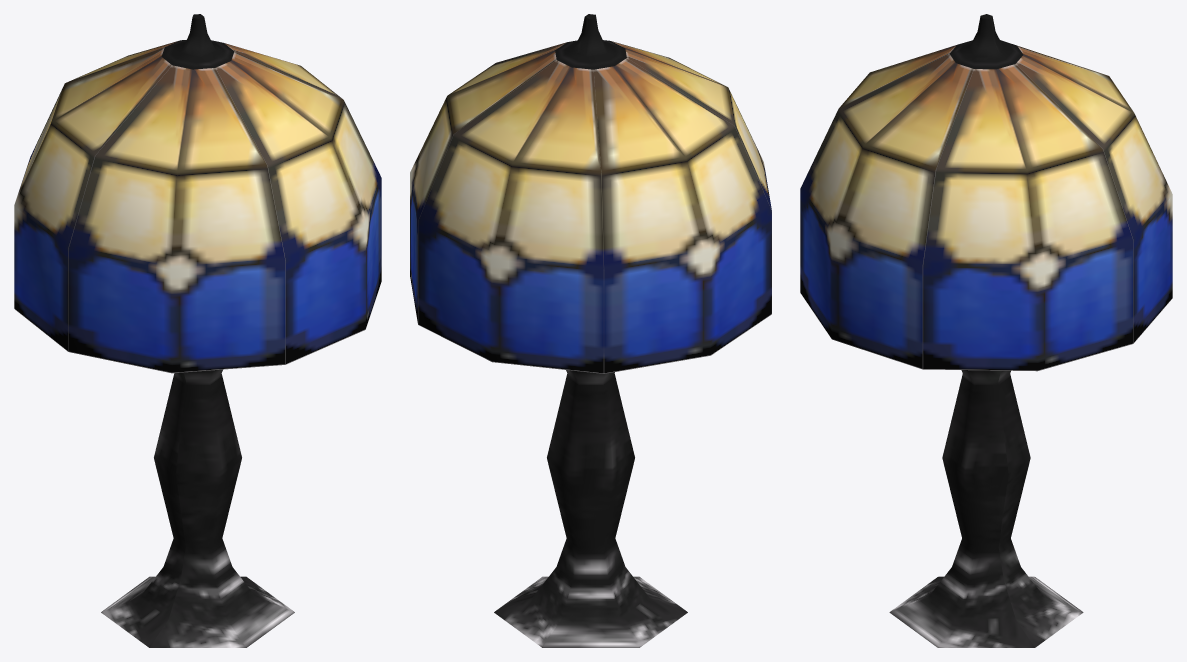
Rendered from furni_0200076_02.FBX.
The picture shows the model from 3 angles, left to right: view 1: azimuth 30°, elevation 25°; view 2: azimuth 150°, elevation 25°; view 3: azimuth 270°, elevation 25°; orthographic projection.
Parts seen in each view (by area): view 1: furni_0200076; view 2: furni_0200076; view 3: furni_0200076.
Part boxes in pixels (x1,y1,x2,y2): furni_0200076: [14, 14, 381, 647]; furni_0200076: [410, 14, 771, 647]; furni_0200076: [800, 14, 1172, 647].
Bounding box in the file's own units: 29.94 × 54.92 × 31.13.
1 material, 1 textured.
